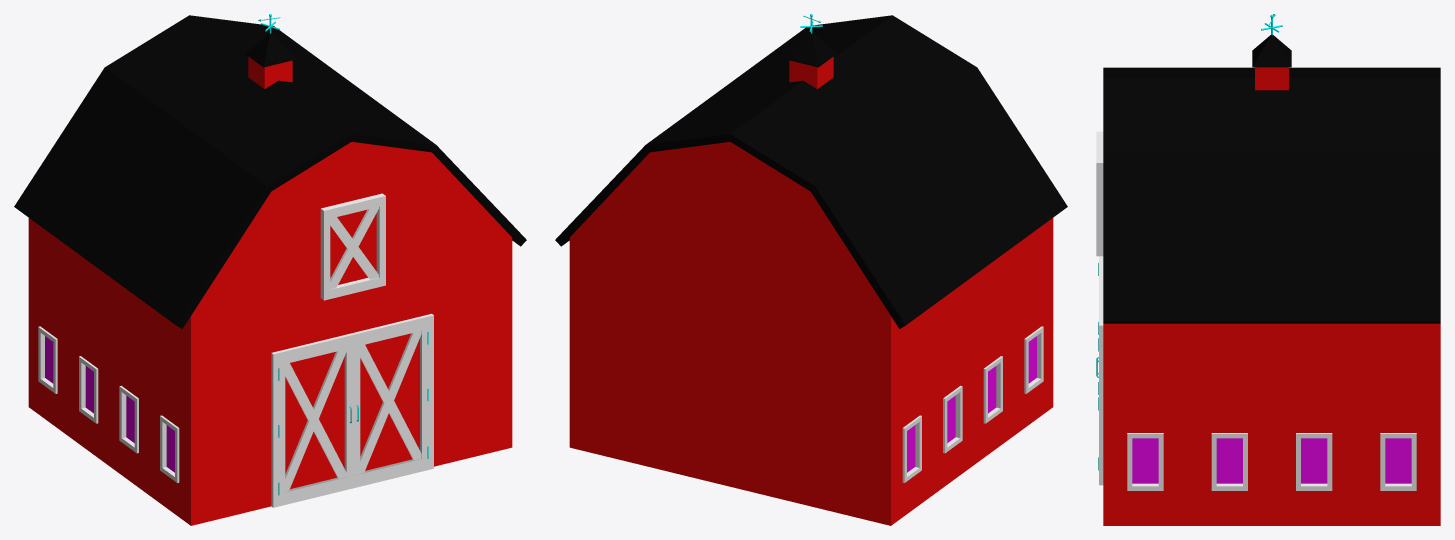
Rendered from barn.fbx.
The picture shows the model from 3 angles, left to right: view 1: azimuth 30°, elevation 25°; view 2: azimuth 150°, elevation 25°; view 3: azimuth 270°, elevation 25°; orthographic projection. The views are drawn at different scales.
Visible parts, largest first — view 1: pCube2, pCube7, pCone3, pCube4, pCube3, pCube6, pCube5, pCube9, pCube8; view 2: pCube2, pCone3; view 3: pCube2, pCone3, pCube7.
Boxes of the visible parts, x1,y1,x2,y2 form: pCube2: [14, 15, 526, 525]; pCube7: [320, 193, 385, 300]; pCone3: [244, 33, 295, 88]; pCube4: [285, 349, 346, 491]; pCube3: [360, 331, 421, 473]; pCube6: [360, 344, 421, 460]; pCube5: [285, 363, 346, 478]; pCube9: [330, 207, 378, 289]; pCube8: [330, 217, 378, 279]; pCube2: [555, 15, 1067, 525]; pCone3: [786, 33, 837, 88]; pCube2: [1099, 67, 1440, 525]; pCone3: [1252, 35, 1291, 90]; pCube7: [1096, 131, 1103, 256].
Bounding box in the file's own units: 8.74 × 9.84 × 7.15.
